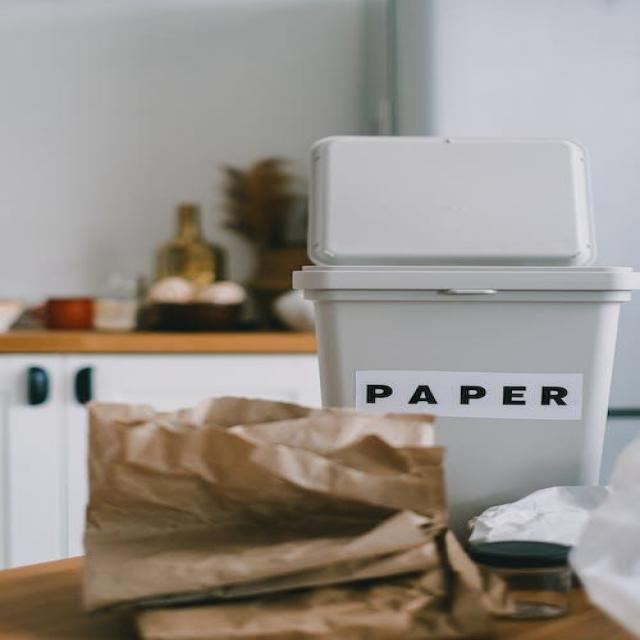glass: (464, 535, 596, 613)
paper: (62, 385, 504, 640)
